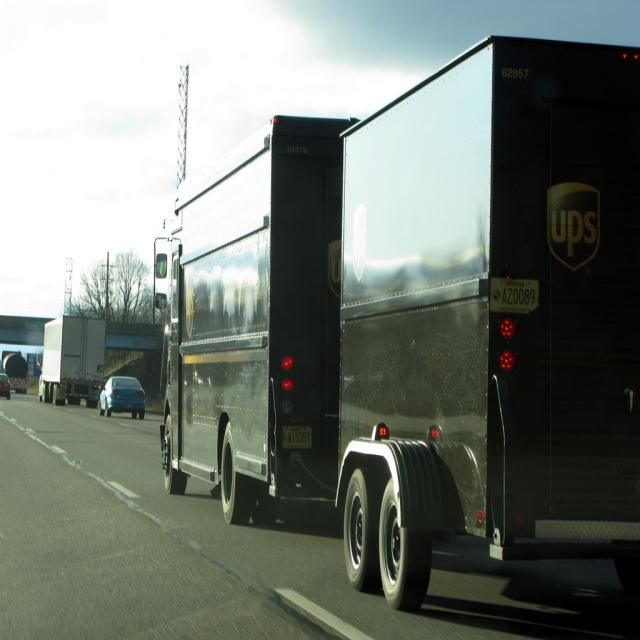ups: (548, 180, 603, 274)
